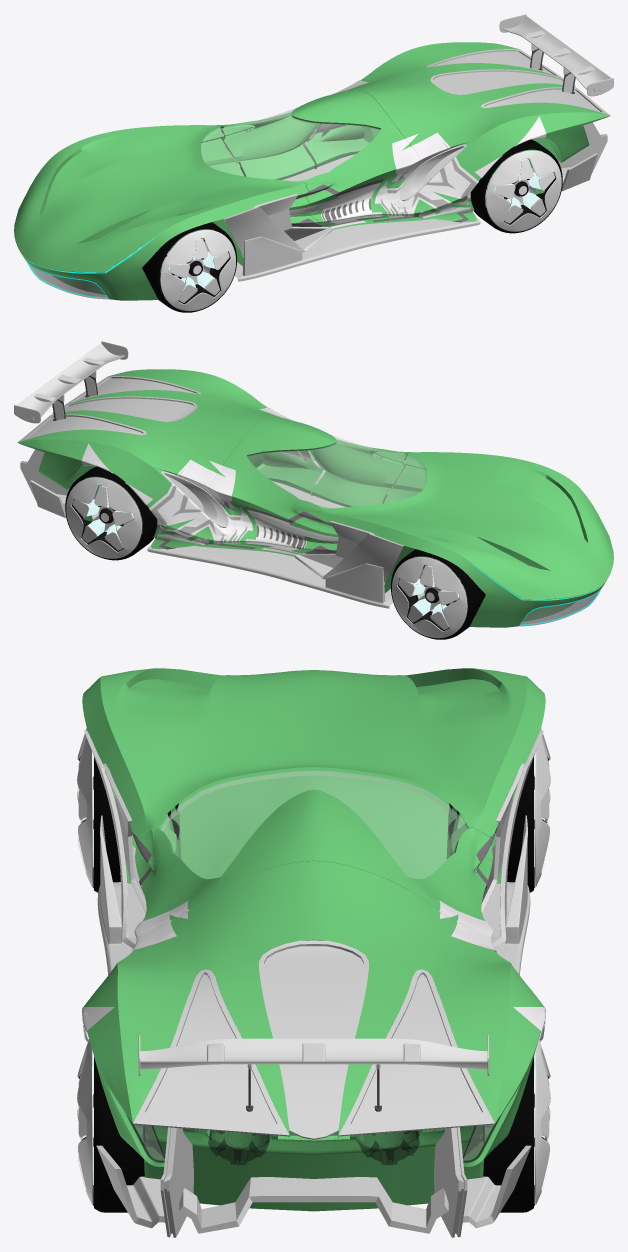
The model's file is car1_0.glb.
3 views of the same model, one above another, from view 1: azimuth 30°, elevation 25°; view 2: azimuth 150°, elevation 25°; view 3: azimuth 270°, elevation 25° (orthographic). The views are drawn at different scales.
Parts seen in each view (by area): view 1: 柱体.002, 柱体.067, 柱体.003, 401, 柱体.007, 柱体.048, 柱体.031, 柱体.012, 402, 柱体.011, Spoiler_part.001, 柱体.050 (+13 smaller); view 2: 柱体.002, 柱体.067, 柱体.003, 401, 柱体.007, 柱体.071, 柱体.091, 柱体.012, 402, 柱体.011, Spoiler_part.001, 柱体.073 (+13 smaller); view 3: 柱体.002, 柱体.012, 柱体.067, 柱体.011, Spoiler_part.001, 柱体.008, 柱体.007, 柱体.006, 柱体.003, 柱体.005, 401, 柱体.050 (+9 smaller).
Boxes of the visible parts, box(x1,y1,x2,y2) form: 柱体.002: box(14, 42, 610, 300); 柱体.067: box(201, 107, 379, 180); 柱体.003: box(234, 154, 480, 281); 401: box(302, 80, 546, 222); 柱体.007: box(224, 194, 332, 257); 柱体.048: box(486, 150, 561, 231); 柱体.031: box(160, 230, 235, 311); 柱体.012: box(426, 49, 610, 115); 402: box(220, 127, 384, 228); 柱体.011: box(430, 69, 575, 94); Spoiler_part.001: box(503, 16, 611, 89); 柱体.050: box(470, 139, 562, 233); 柱体.002: box(17, 369, 613, 627); 柱体.067: box(248, 434, 426, 507); 柱体.003: box(147, 481, 393, 608); 401: box(81, 407, 325, 549); 柱体.007: box(295, 521, 403, 584); 柱体.071: box(66, 477, 141, 558); 柱体.091: box(392, 557, 467, 638); 柱体.012: box(17, 376, 201, 442); 402: box(243, 454, 407, 555); 柱体.011: box(52, 396, 197, 421); Spoiler_part.001: box(16, 343, 124, 416); 柱体.073: box(65, 466, 157, 560); 柱体.002: box(82, 668, 545, 1211); 柱体.012: box(133, 969, 494, 1136); 柱体.067: box(161, 770, 466, 878); 柱体.011: box(259, 940, 368, 1139); Spoiler_part.001: box(140, 1038, 487, 1069); 柱体.008: box(179, 1177, 448, 1233); 柱体.007: box(84, 730, 543, 948); 柱体.006: box(160, 1127, 467, 1237); 柱体.003: box(97, 815, 530, 974); 柱体.005: box(96, 1145, 531, 1228); 401: box(82, 900, 545, 1041); 柱体.050: box(94, 1057, 144, 1212).
Size of the model in its own units: 7.15 by 1.57 by 2.69.
13 materials, 2 textured.
